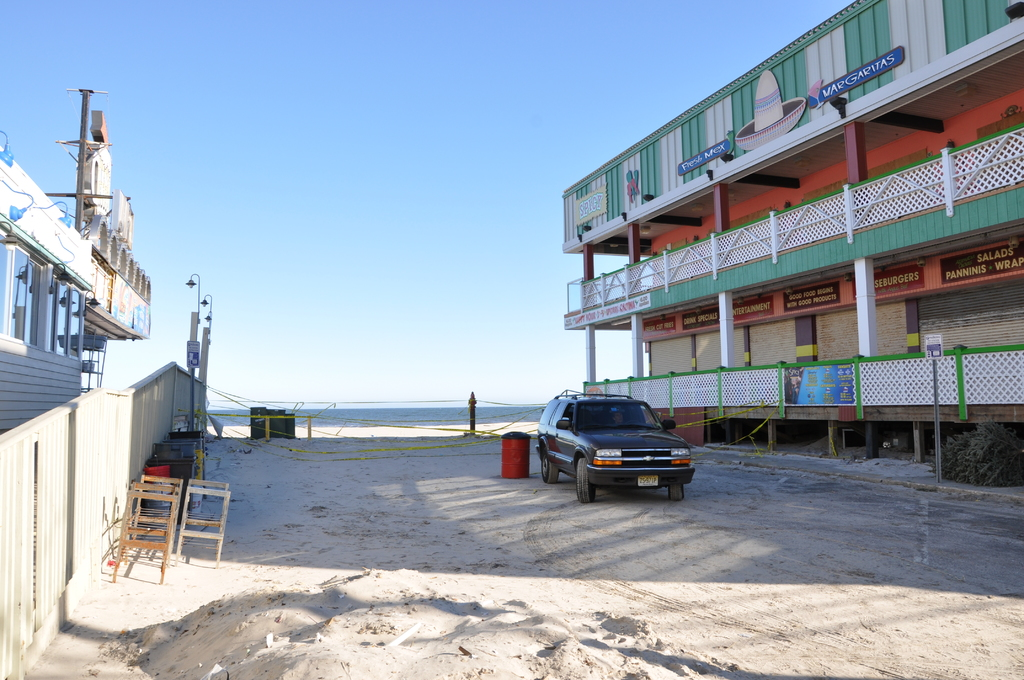Car: (529, 388, 715, 509)
